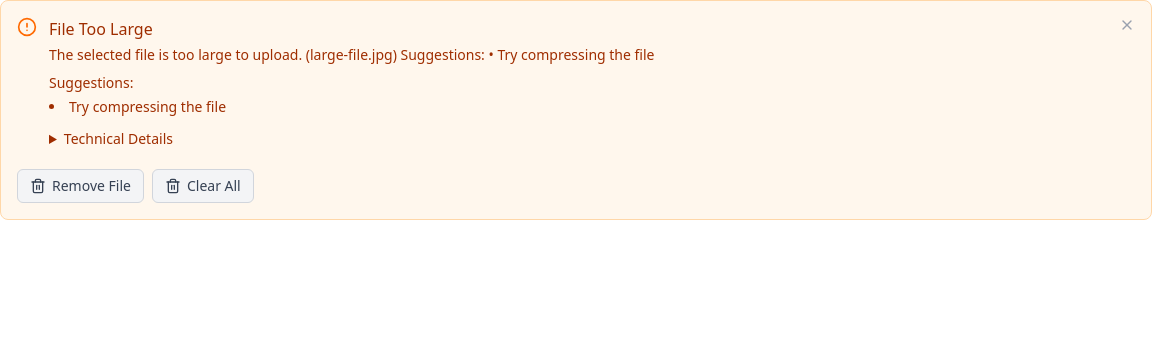
Test case: ErrorFeedback › should show technical details when enabled
Click the heading "Technical Details" at (118, 138), box [64,129,173,148]
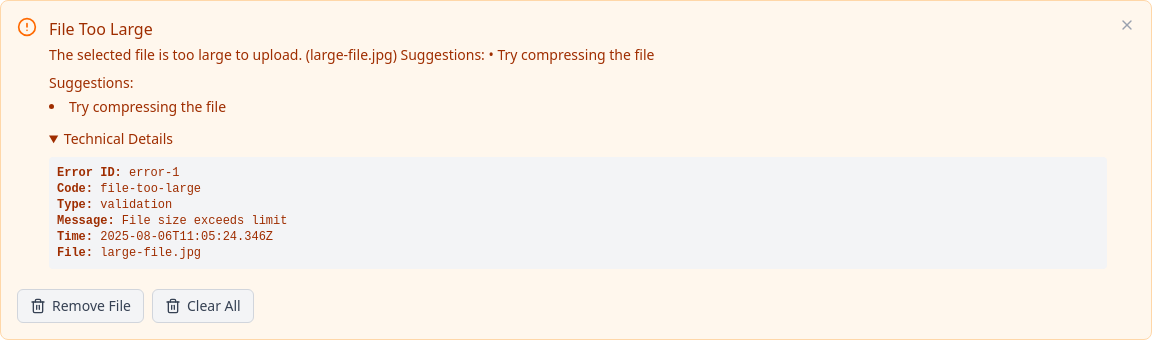
Result: the text "error-1" is shown at [129,166,179,180]
Result: the text "file-too-large" is shown at [100,182,201,196]
